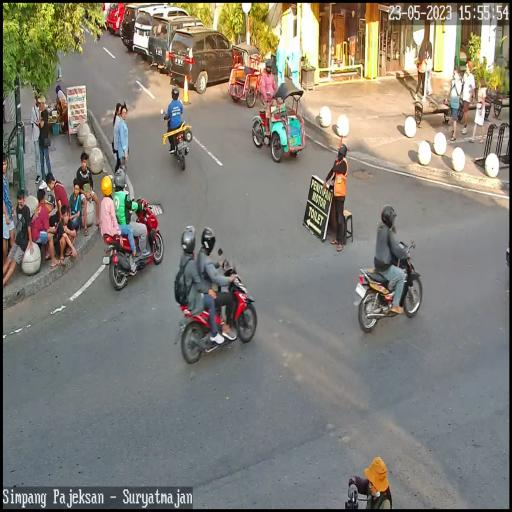mobil: (170, 28, 240, 94), (148, 13, 210, 77), (134, 2, 192, 60)
motor: (174, 261, 260, 363), (353, 230, 422, 336), (99, 203, 166, 290), (158, 108, 193, 176)
